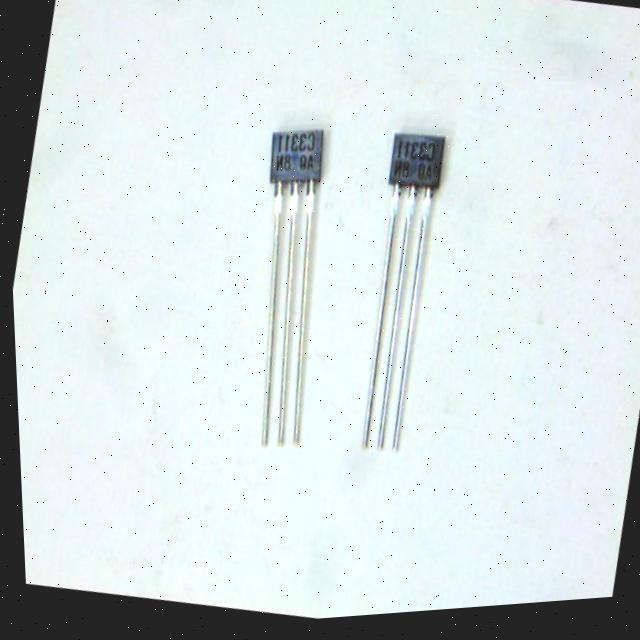Transistor: (337, 124, 460, 470), (235, 120, 335, 463)
